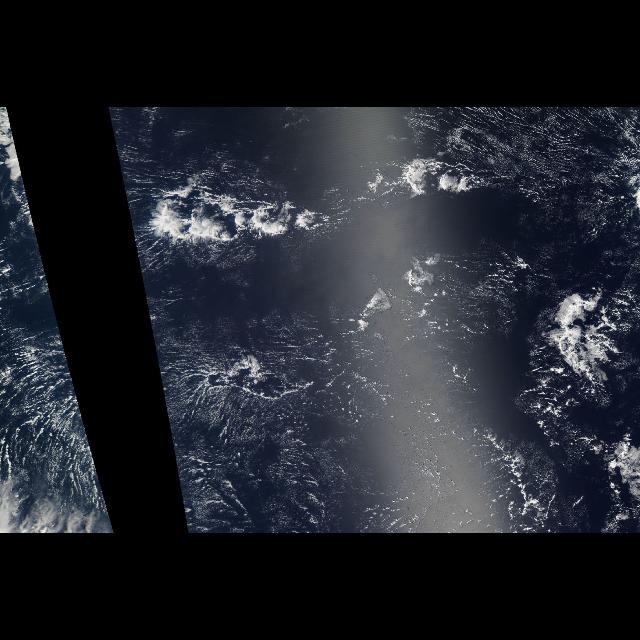Gravel: (171, 354, 363, 416)
Sugar: (172, 327, 400, 525), (424, 109, 632, 173)
